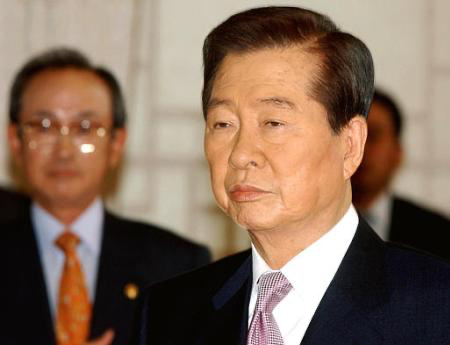Face: (199, 66, 316, 234), (18, 73, 106, 200)
